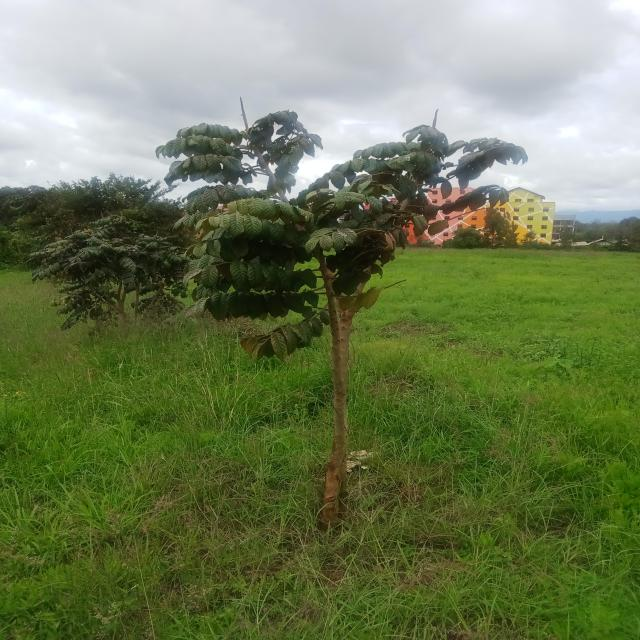Polyscias Kikuyensis: (154, 106, 530, 515), (30, 212, 192, 324)
